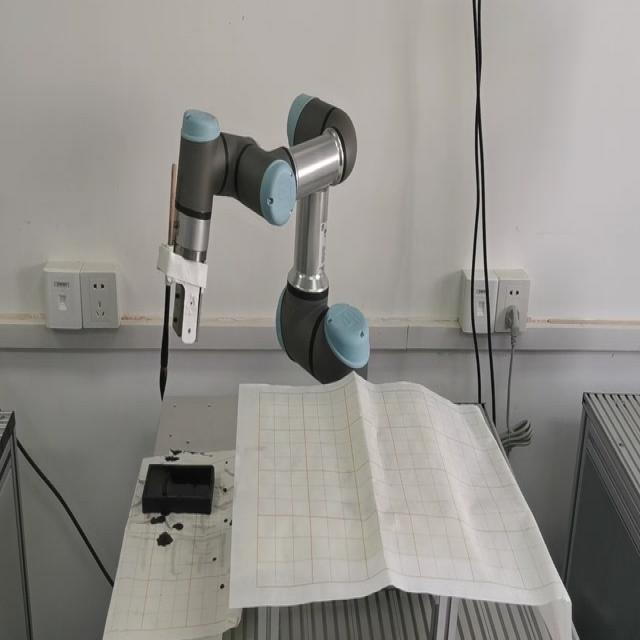head: (156, 366, 170, 400)
inkstone: (141, 463, 217, 518)
writing-brush: (157, 160, 179, 397)
